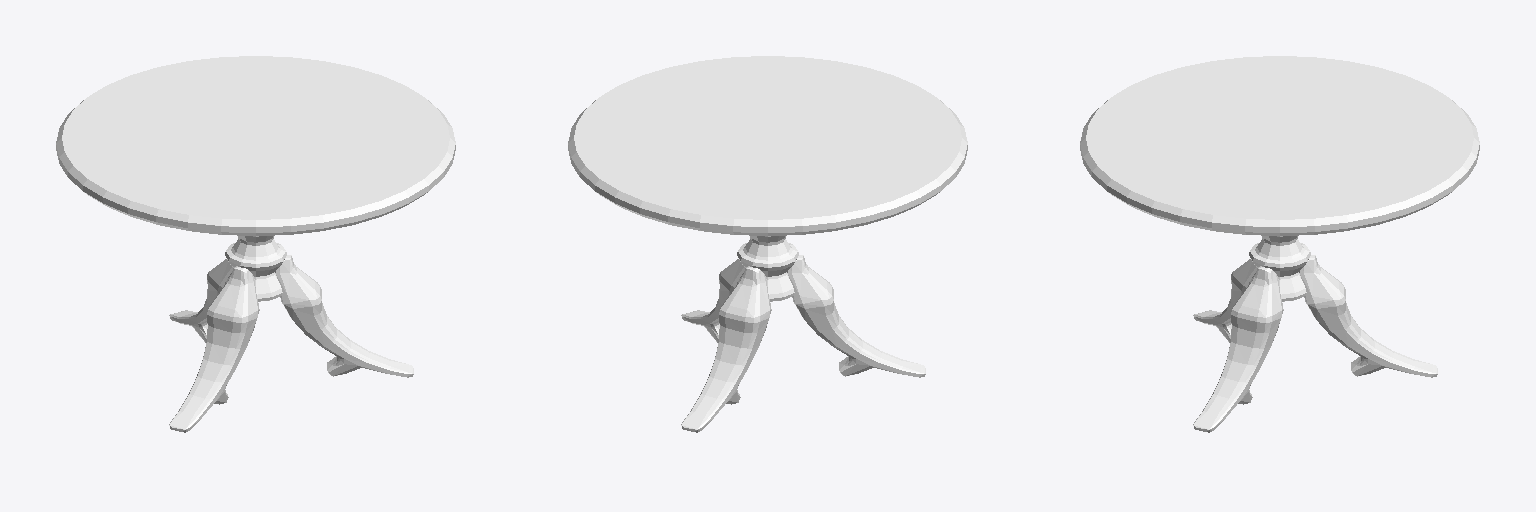
Rendered from wooden-coffe-table.obj.
3 renders of one model, left to right at view 1: azimuth 30°, elevation 25°; view 2: azimuth 150°, elevation 25°; view 3: azimuth 270°, elevation 25°, orthographic.
Visible parts, largest first — view 1: top, Null; view 2: top, Null; view 3: top, Null.
Part boxes in pixels (bbox=[...]): top: bbox=[56, 56, 455, 235]; Null: bbox=[169, 236, 413, 432]; top: bbox=[568, 56, 967, 235]; Null: bbox=[681, 236, 925, 432]; top: bbox=[1080, 56, 1479, 235]; Null: bbox=[1193, 236, 1437, 432].
Size of the model in its own units: 2.28 by 1.49 by 2.28.